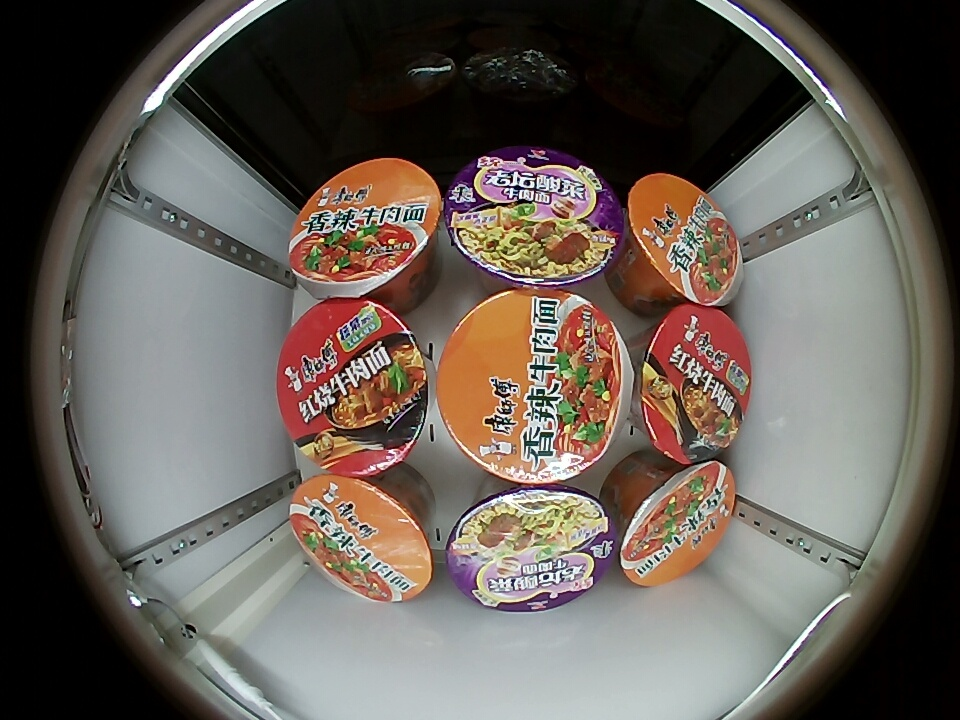hongshaoniurou: (277, 298, 434, 475), (635, 306, 751, 464)
laotansuancai: (442, 146, 627, 289), (444, 483, 617, 613)
xianglaniurou: (437, 288, 634, 486), (288, 159, 441, 295), (290, 474, 434, 602), (624, 173, 742, 306), (617, 461, 736, 586)
